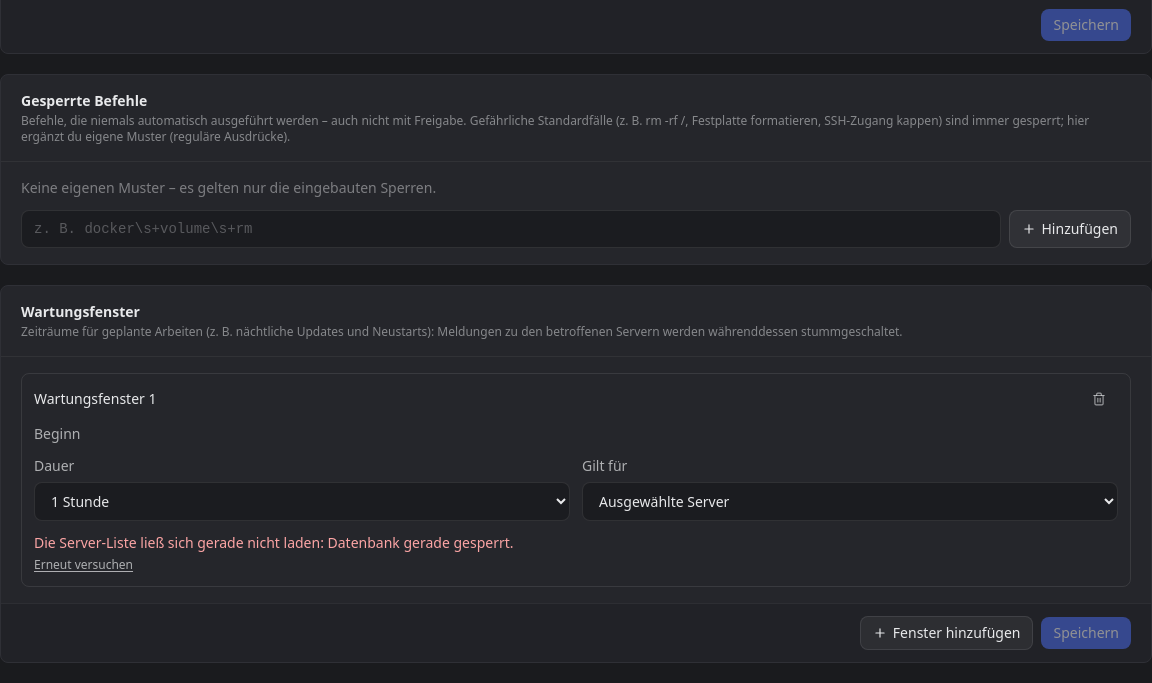
AutomationSettings bei einem Ladefehler › Server-Liste nicht ladbar: Grund statt „Keine Server bekannt.“, erneut versuchen
The image size is (1152, 683).
(page scrolled)
expect the message with test id "load-error" shows "Die Server-Liste ließ sich gerade nicht laden: Datenbank gerade gesperrt.": met, box [34, 533, 514, 552]
Click the button "Erneut versuchen". click: coordinates (84, 565)
box: [34, 557, 133, 573]
(page scrolled)
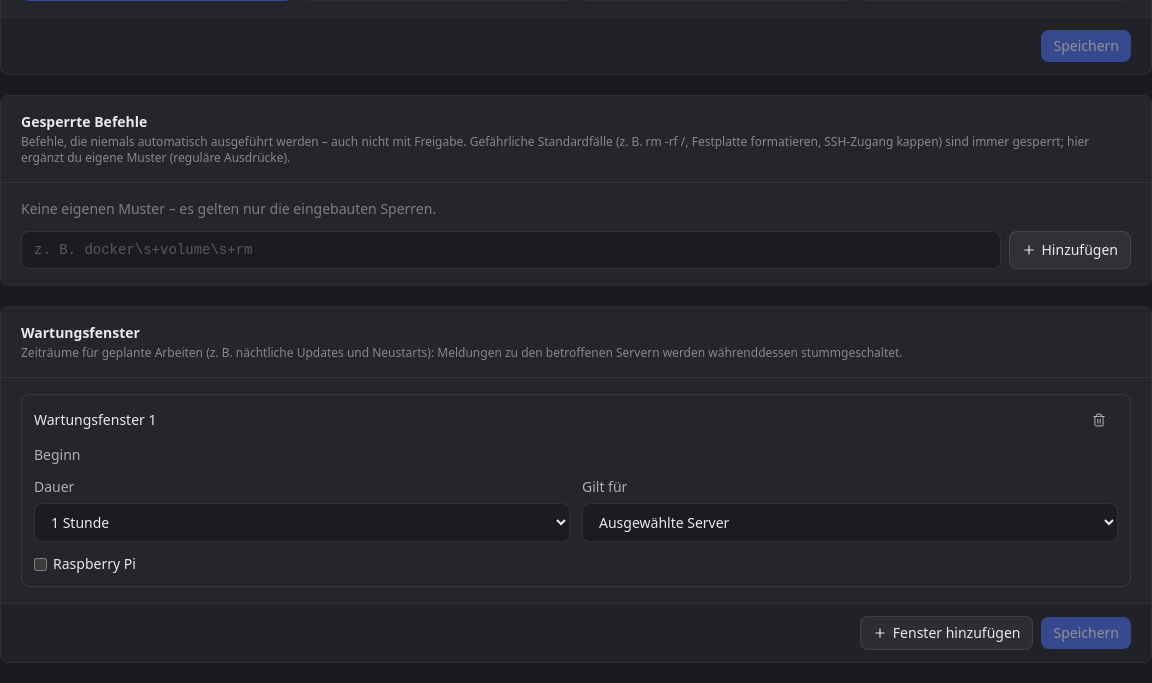
expect the checkbox labelled "Raspberry Pi" is shown: met, box [34, 558, 47, 570]
expect the message with test id "load-error" is gone: met
